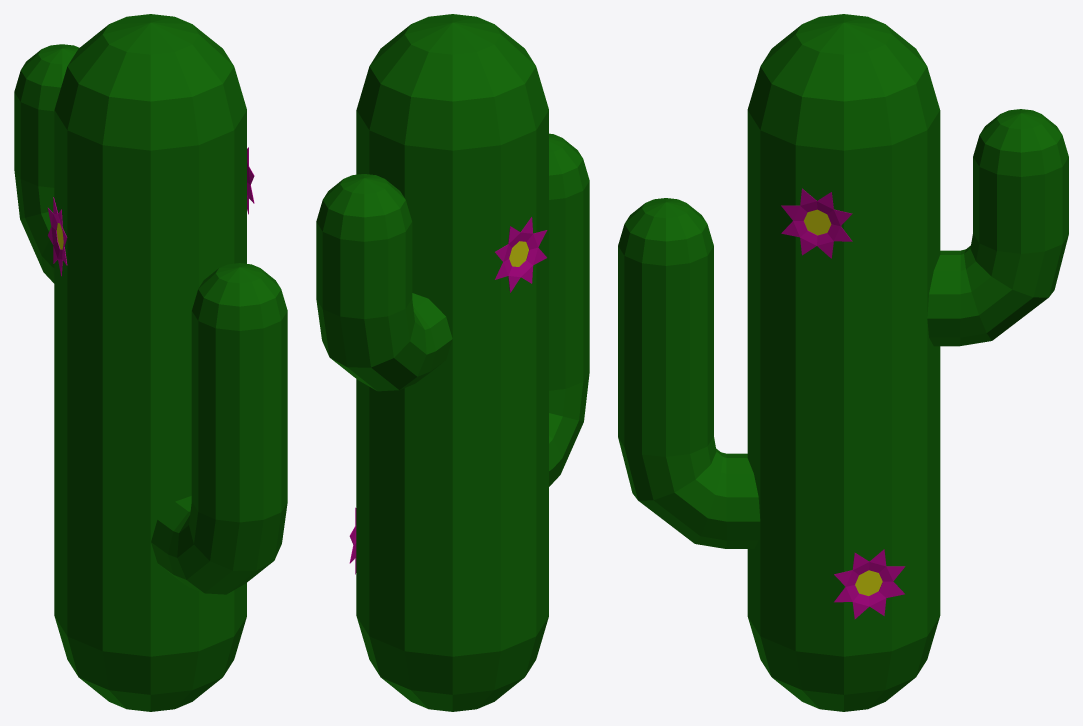
File: cactus 2.fbx
3 views of the same model, side by side, from view 1: azimuth 30°, elevation 25°; view 2: azimuth 150°, elevation 25°; view 3: azimuth 270°, elevation 25° (orthographic).
Visible parts, largest first — view 1: cactus groot 2; view 2: cactus groot 2; view 3: cactus groot 2.
Part boxes in pixels (<box>): cactus groot 2: <box>14,14,287,711</box>; cactus groot 2: <box>316,14,589,711</box>; cactus groot 2: <box>618,14,1068,711</box>.
Bounding box in the file's own units: 0.5579 × 2 × 1.22.
